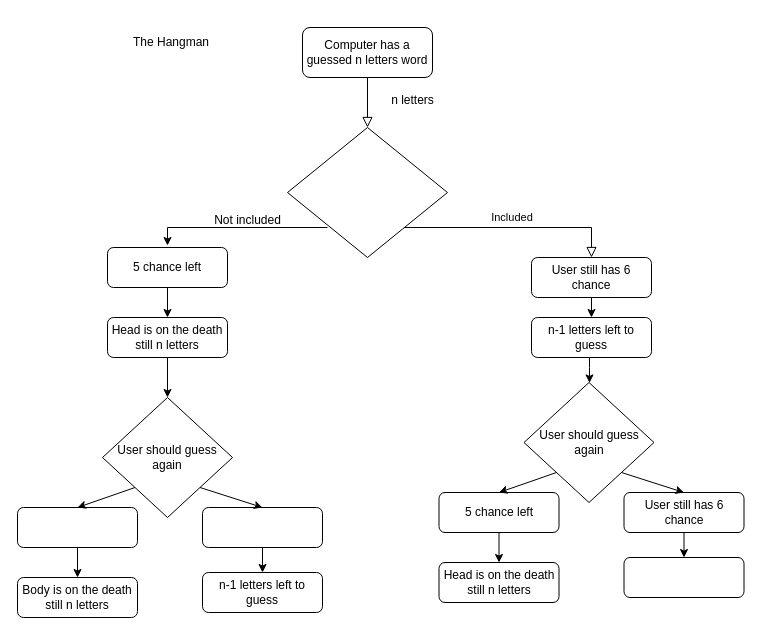
Image size: 762x635. Some labels were removed from this diagram. The shapes that lost their labels are listed below. From the top down, each one's centre as x and y in pixels, then its label:
the point at 367,192: User who has a 6 chance try to guess and say one letter
the point at 77,527: 4 chance left
the point at 262,527: User still has 5 chance
the point at 683,577: n-2 letters left to guess
